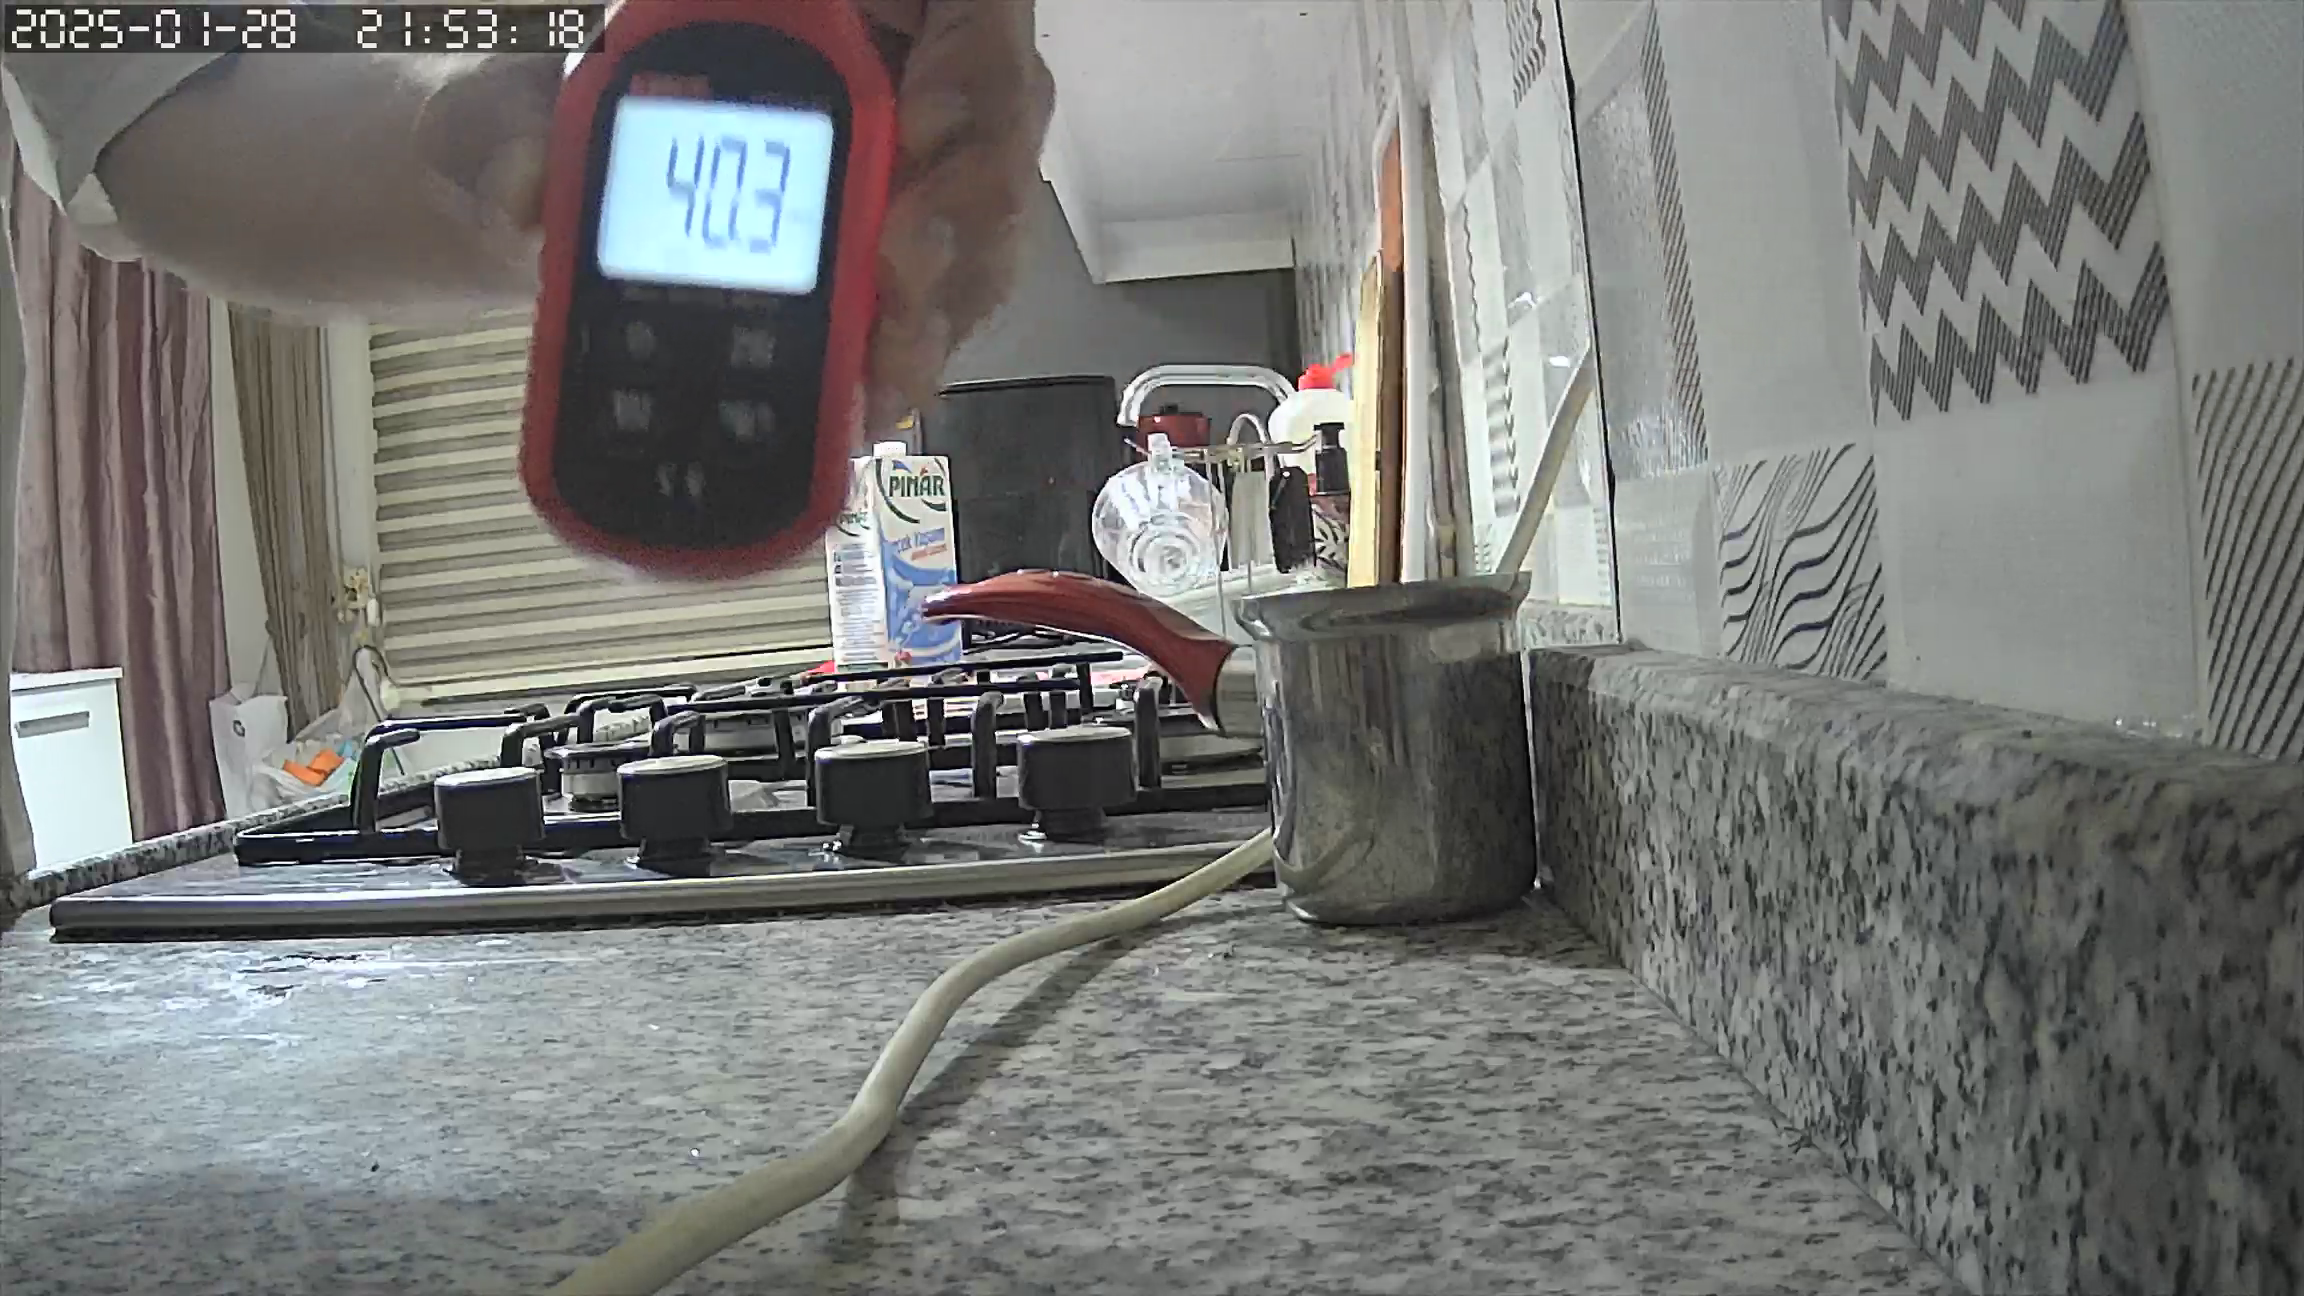screen: (595, 90, 832, 297)
